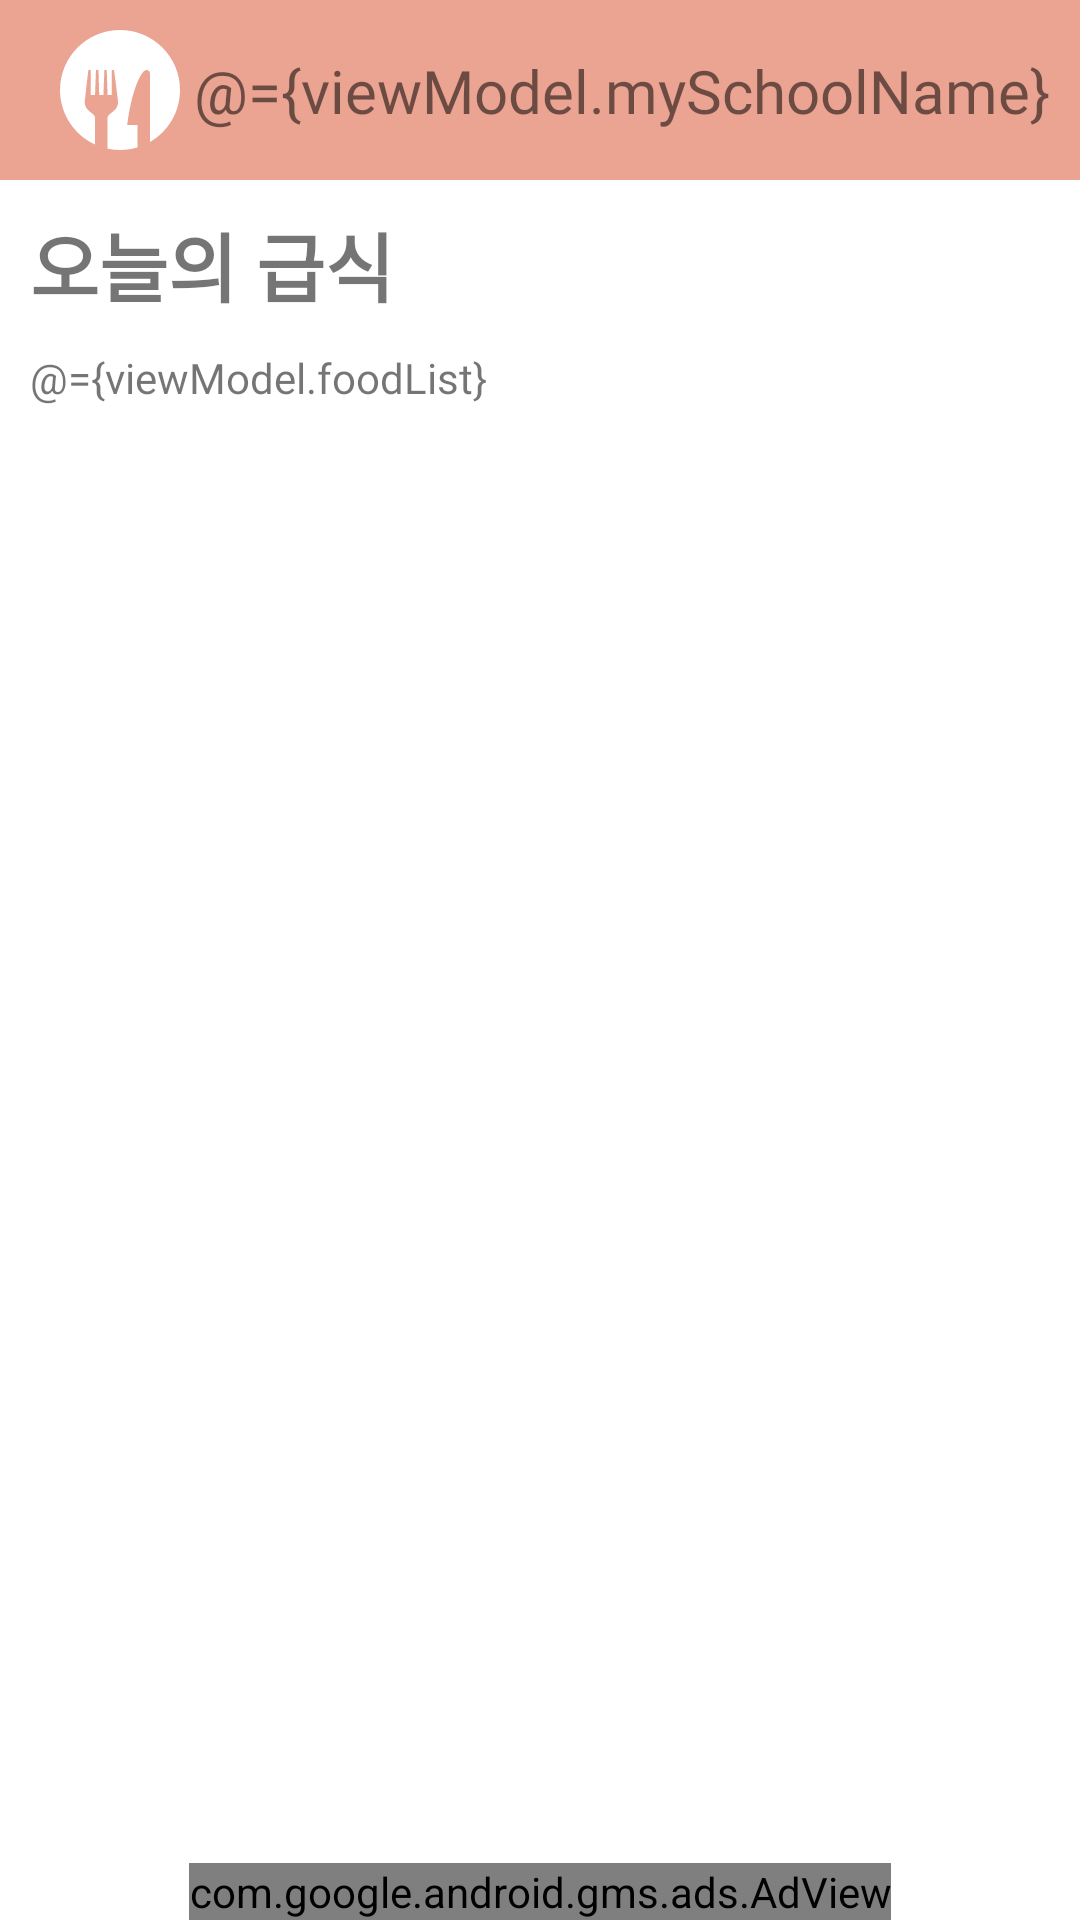

Named icons in this screenshot (1080 × 1920) and their centers, point (x, y):
eat: point (120, 90)
